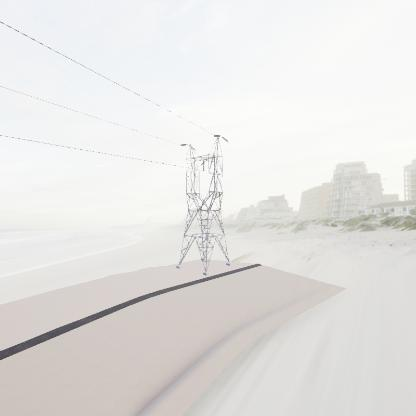tower: (173, 133, 230, 278)
